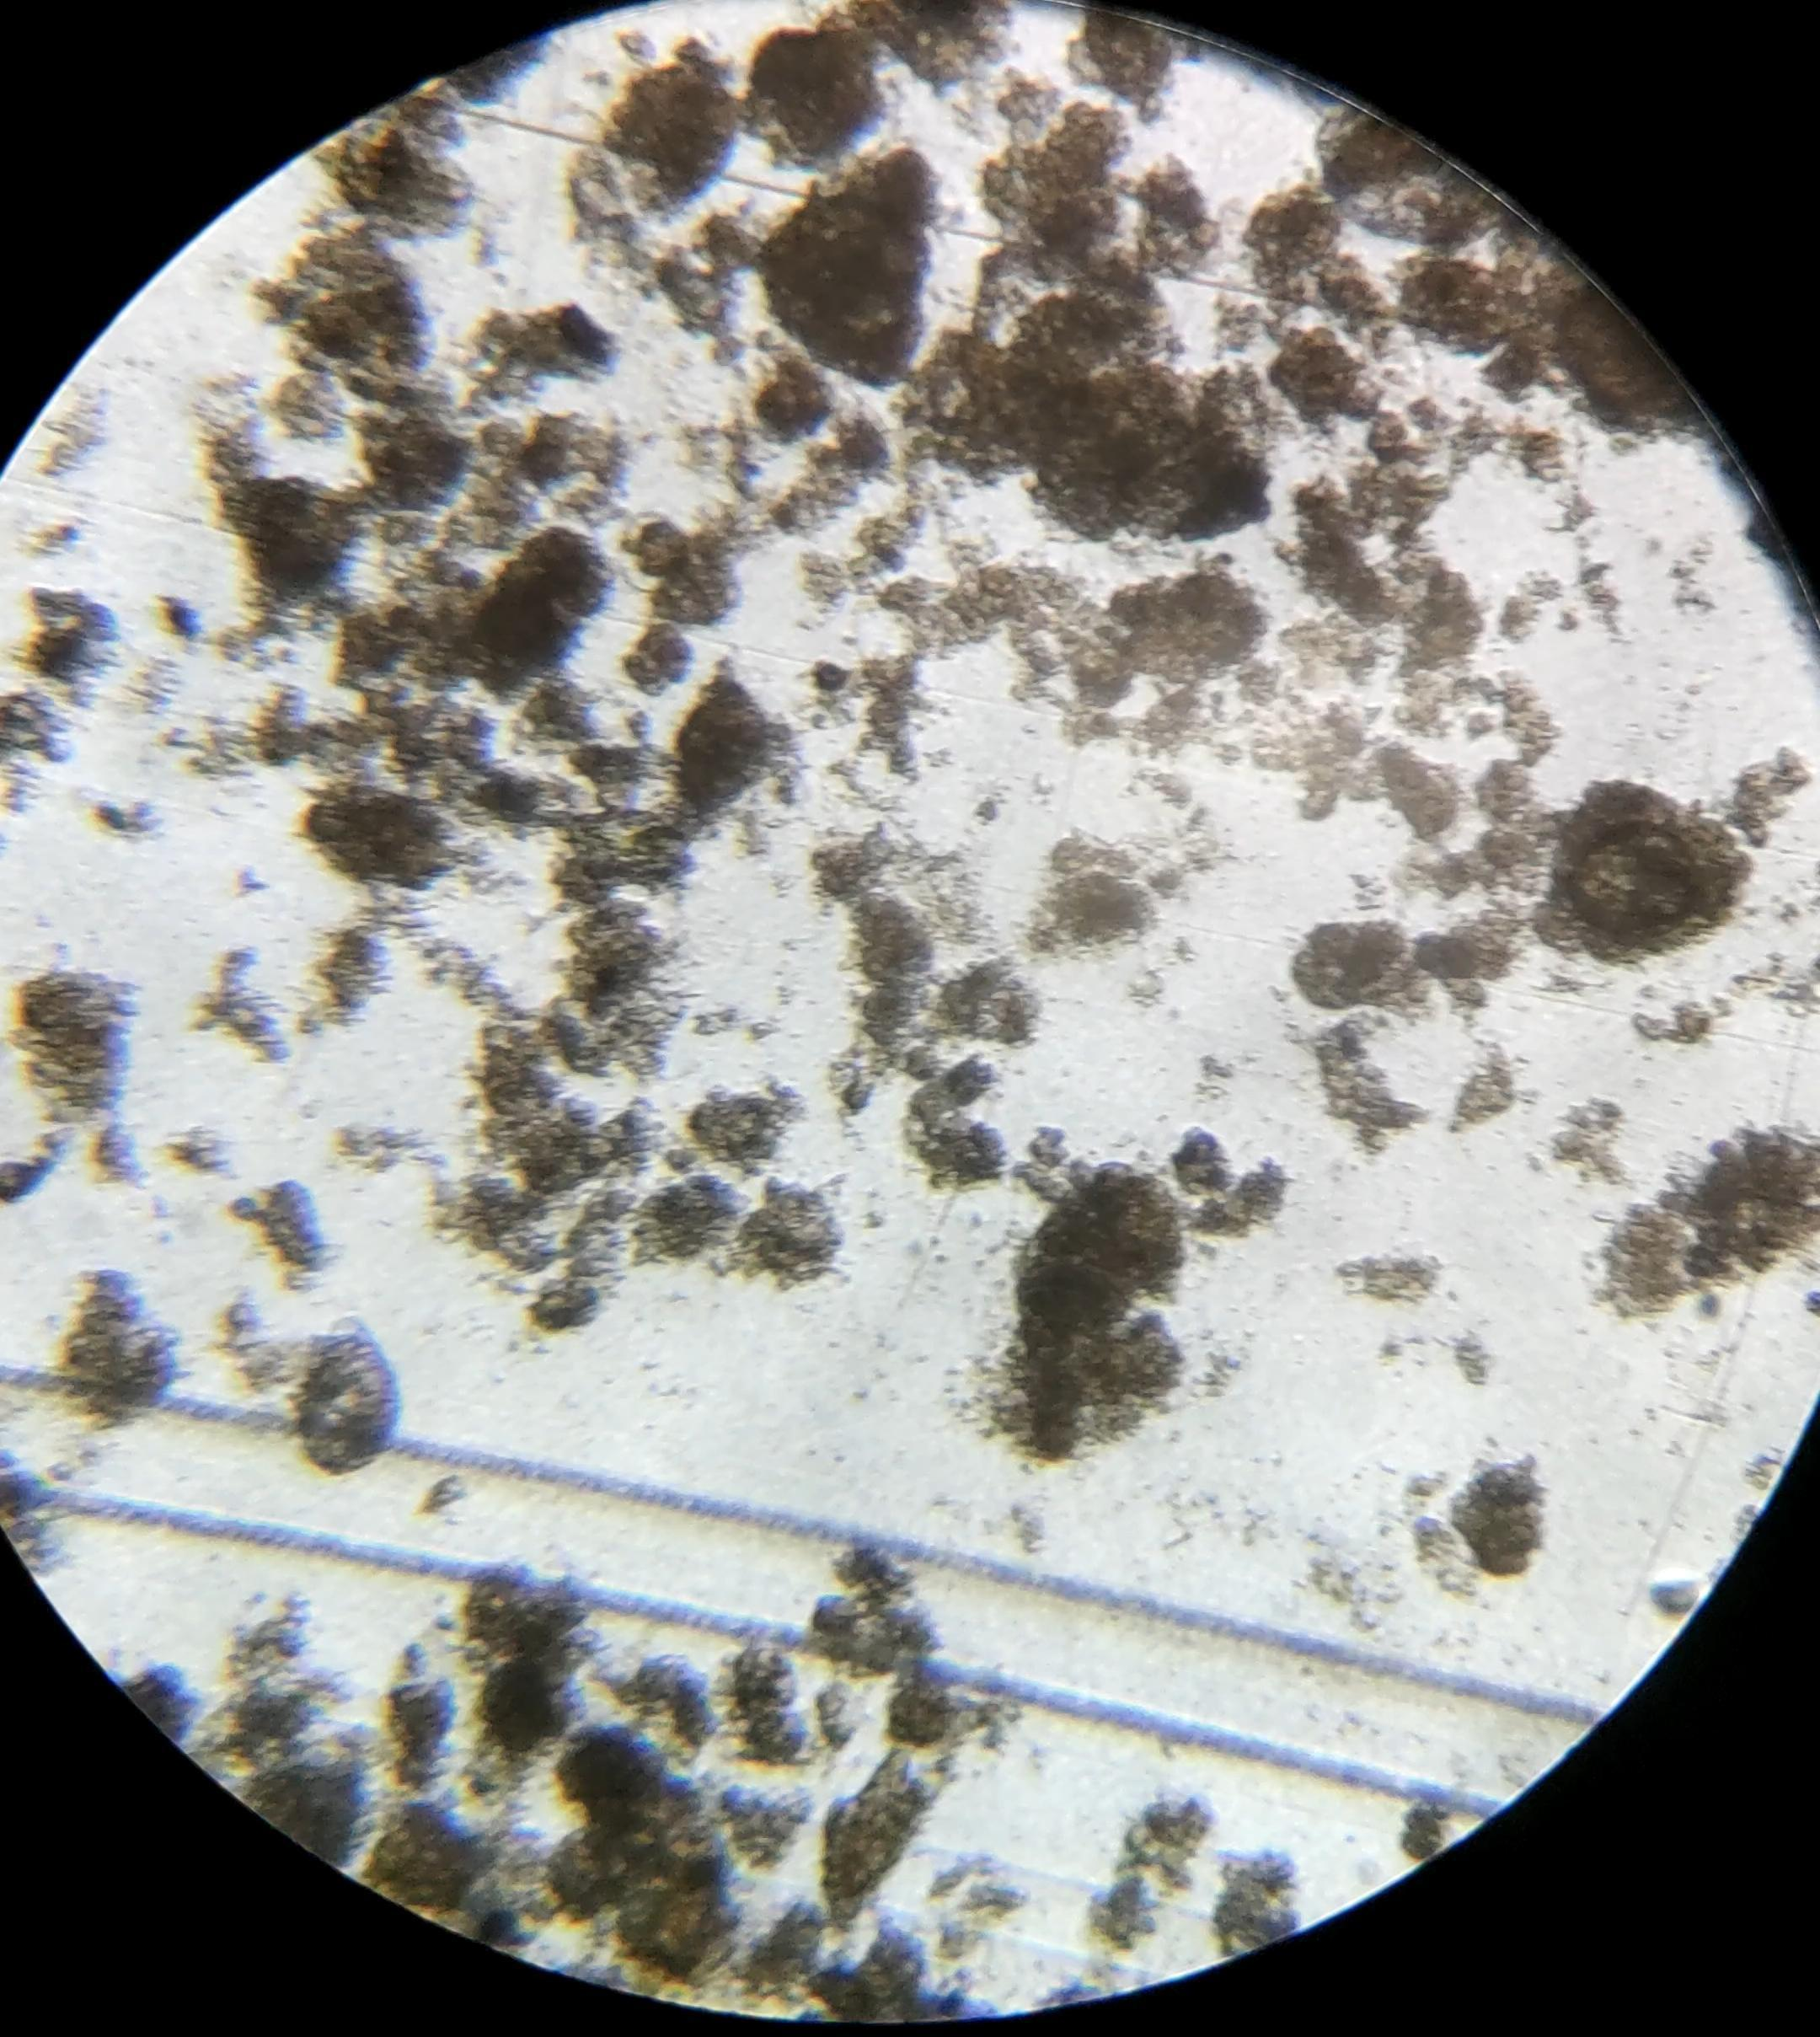Arcella: (1581, 823, 1694, 939)
Mo: (1289, 74, 1470, 246), (304, 1316, 395, 1475)
